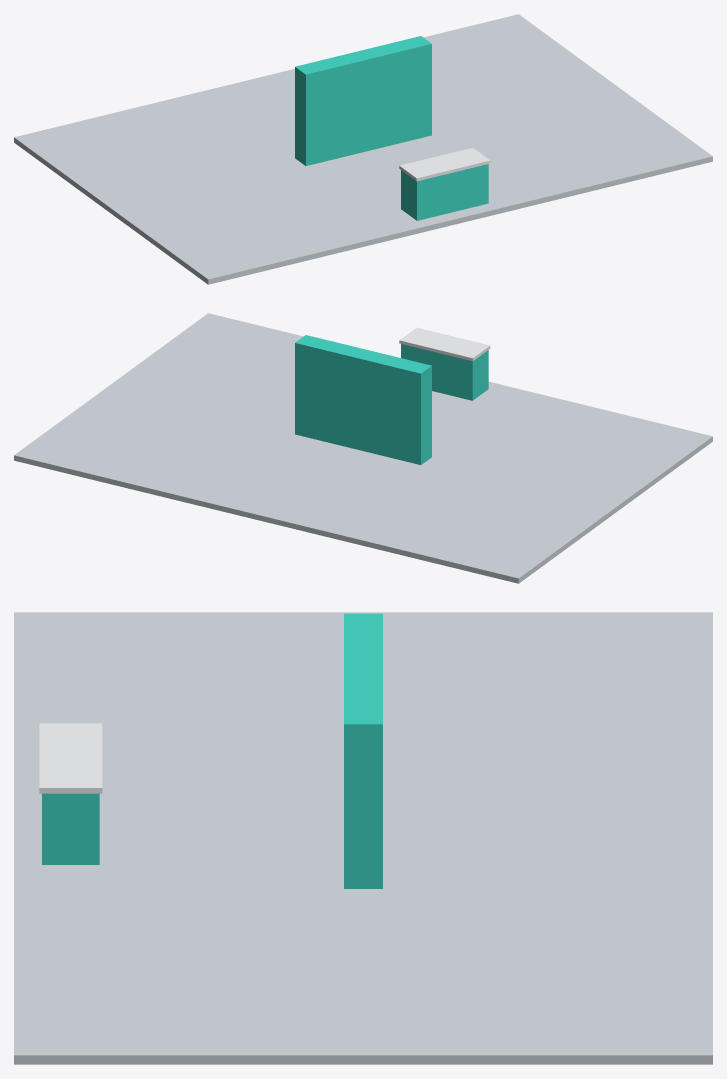
3 renders of one model, top to bottom at view 1: azimuth 30°, elevation 25°; view 2: azimuth 150°, elevation 25°; view 3: azimuth 270°, elevation 25°, orthographic. The views are drawn at different scales.
Parts seen in each view (by area): view 1: Exhibition Booth Concept; view 2: Exhibition Booth Concept; view 3: Exhibition Booth Concept.
Part boxes in pixels (x1=…): Exhibition Booth Concept: x1=14, y1=14, x2=712, y2=284; Exhibition Booth Concept: x1=14, y1=313, x2=712, y2=583; Exhibition Booth Concept: x1=14, y1=612, x2=712, y2=1064.
Bounding box in the file's own units: 12 × 2.2 × 8.
